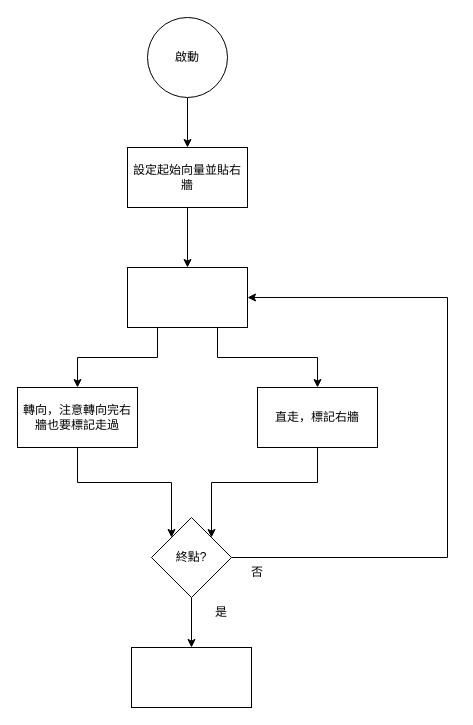
Image size: 473x725. Some labels were removed from this diagram. Here are the shapes that lost their labels. From the top down, the box of each, then its label:
(126, 266, 248, 328): 分析前方5個點，取出最優先的牆，計算行走命令(轉向或是前進)
(130, 646, 252, 708): 結束
